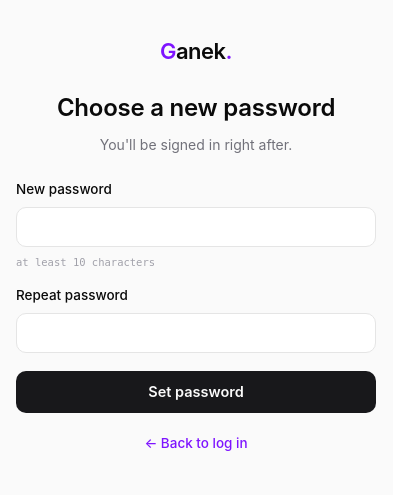
Test: ResetPasswordPage › surfaces an expired-link error with a way to start over
In the password field labelled "New password": (196, 227) [16,207,376,247], type "a-brand-new-password"
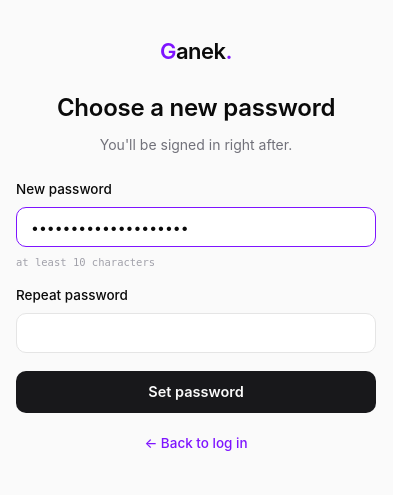
In the password field labelled "Repeat password": (196, 333) [16,313,376,353], type "a-brand-new-password"
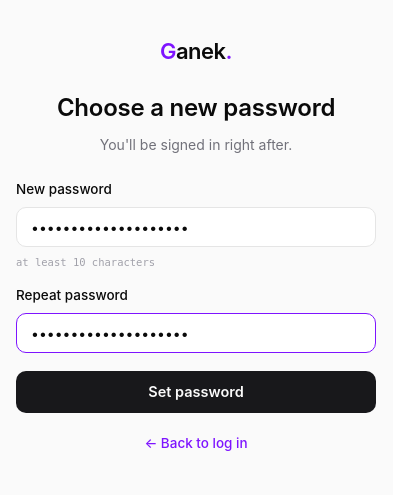
Click the button "Set password": (196, 392) [16,371,376,413]
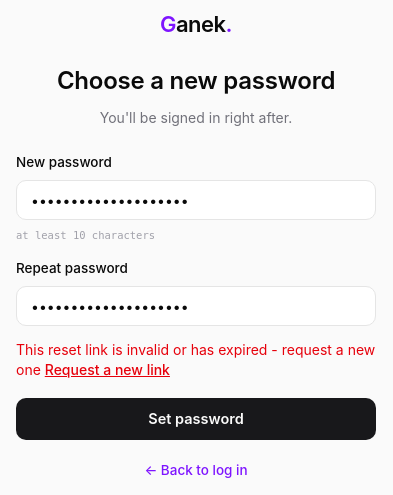
Expected: the message shows "invalid or has expired", [16,341,375,378]
